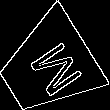M_SW: (15, 33, 80, 100)
